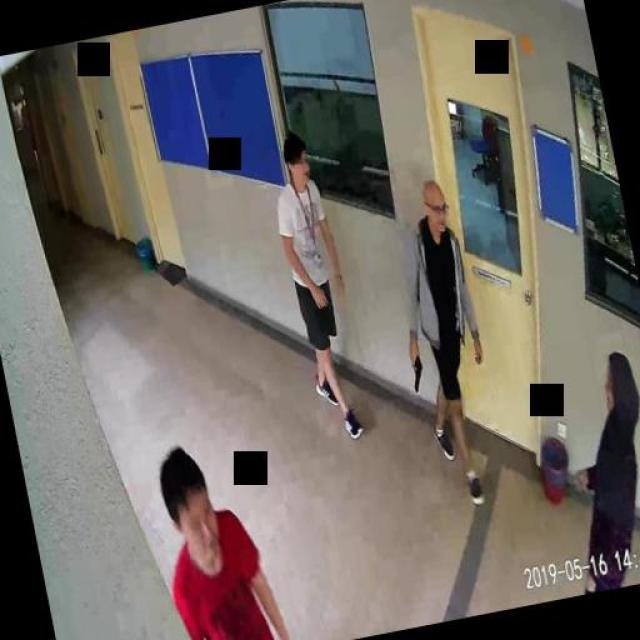gun: (408, 352, 427, 392)
